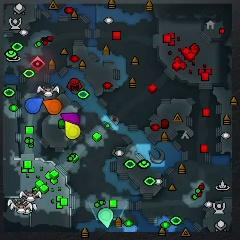p1: (25, 97, 43, 114)
p2: (97, 208, 113, 228)
p3: (62, 112, 80, 126)
p4: (65, 121, 80, 139)
p5: (44, 99, 62, 115)
